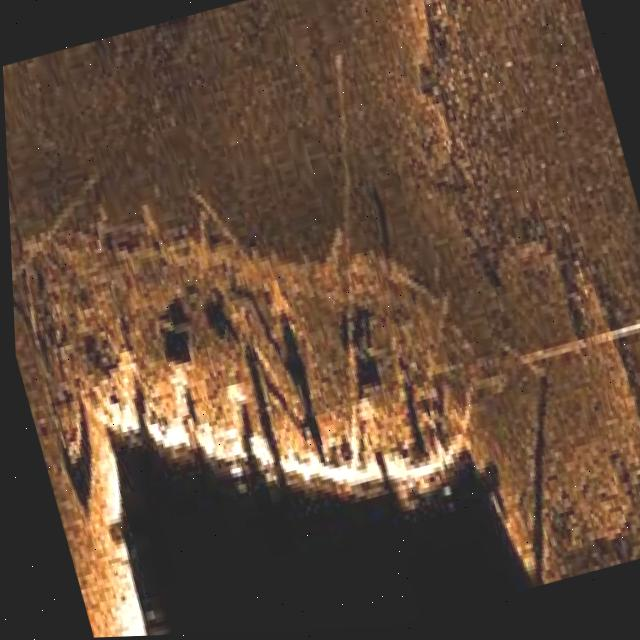shipwreck: (5, 124, 520, 582)
